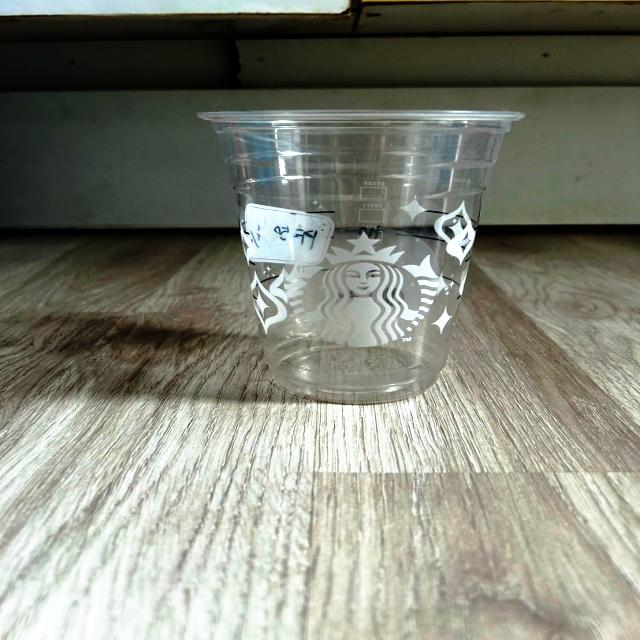Plastic Cup: (201, 110, 522, 403)
